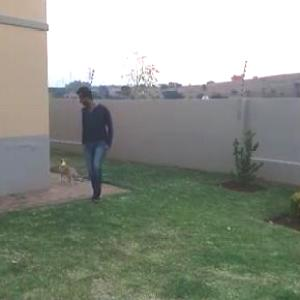follow: (74, 81, 113, 209)
